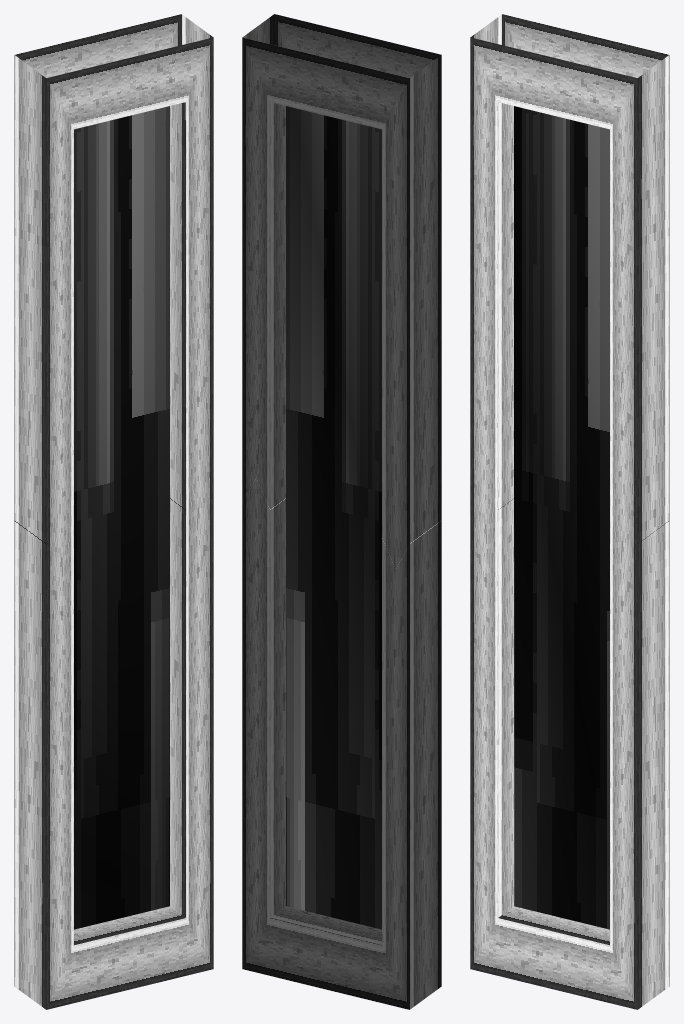
The model's file is Psev_trislideZ.obj.
The picture shows the model from 3 angles, left to right: view 1: azimuth 30°, elevation 25°; view 2: azimuth 150°, elevation 25°; view 3: azimuth 330°, elevation 25°; orthographic projection.
Bounding box in the file's own units: 350 × 1864 × 116.
2 materials, 2 textured.
